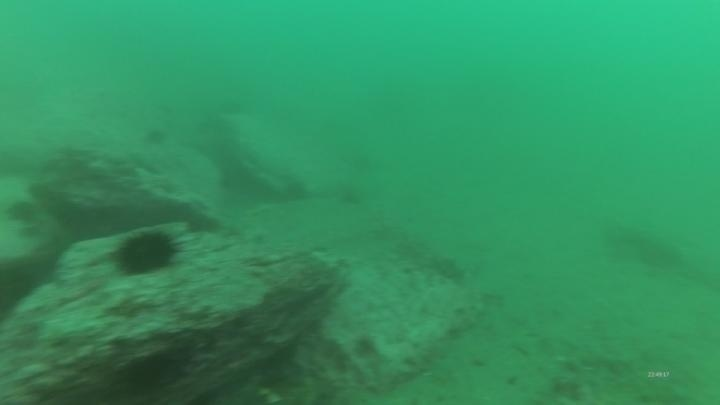echinus: (110, 225, 187, 278), (137, 121, 173, 151), (4, 194, 40, 224), (274, 174, 310, 204), (337, 180, 373, 210), (211, 94, 247, 124)
